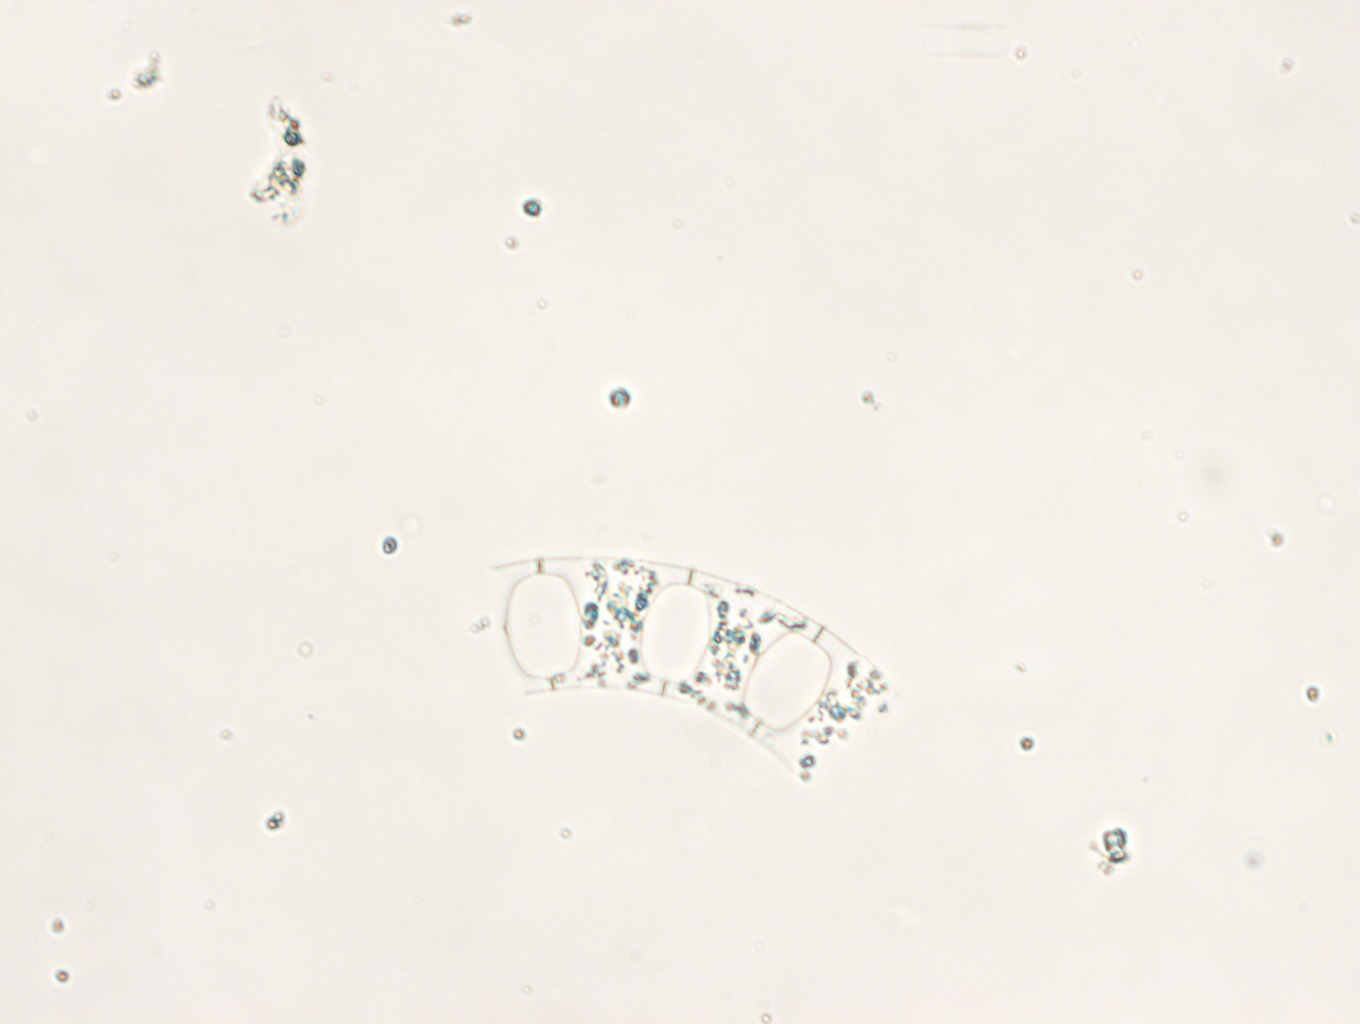eucampia: (484, 555, 894, 790)
